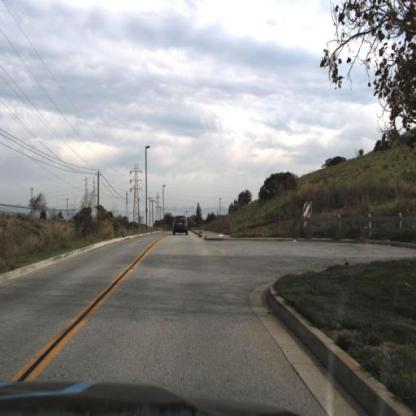car: (172, 213, 190, 239)
